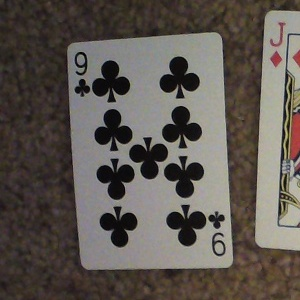card: (64, 31, 235, 269)
